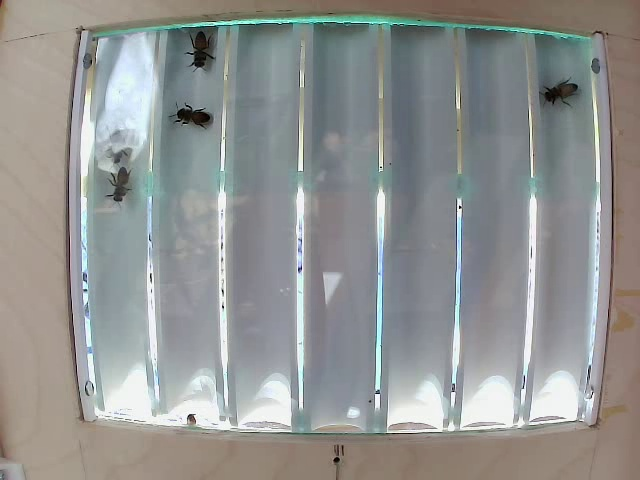bee: (170, 80, 223, 146), (541, 72, 576, 127), (183, 38, 217, 89), (97, 156, 128, 209)
